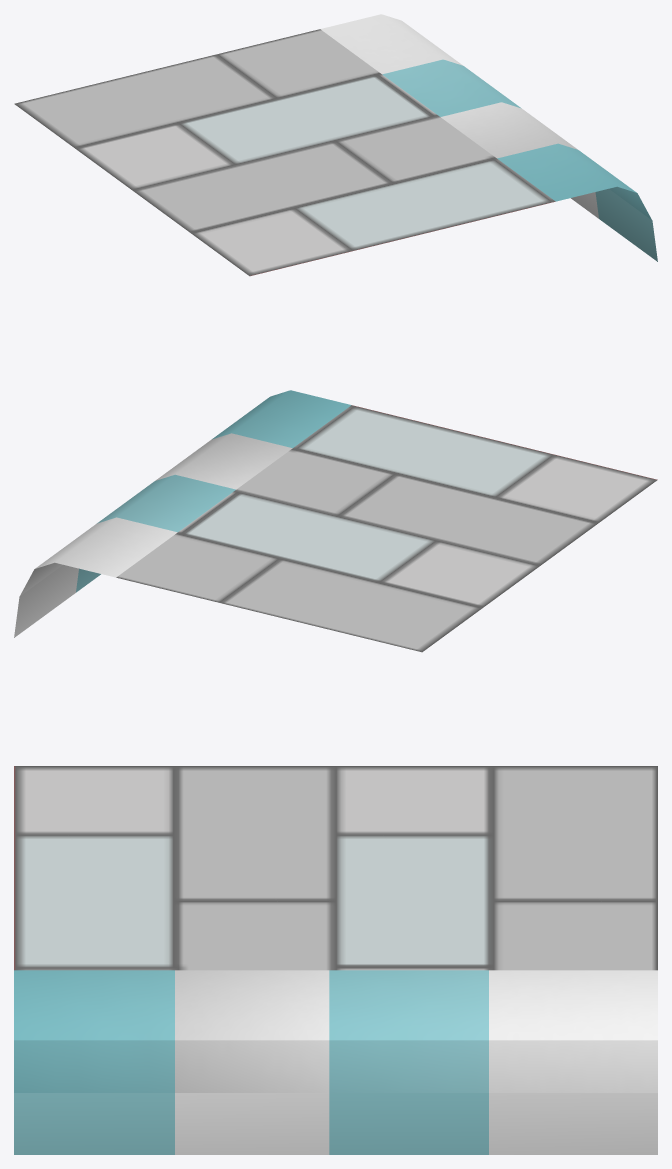
Rendered from Mod_TileWalk_02.fbx.
The picture shows the model from 3 angles, top to bottom: view 1: azimuth 30°, elevation 25°; view 2: azimuth 150°, elevation 25°; view 3: azimuth 270°, elevation 25°; orthographic projection. The views are drawn at different scales.
Parts seen in each view (by area): view 1: Mod_TileWalk_02; view 2: Mod_TileWalk_02; view 3: Mod_TileWalk_02.
Part boxes in pixels (x1,y1,x2,y2): Mod_TileWalk_02: [14, 14, 657, 276]; Mod_TileWalk_02: [14, 390, 657, 652]; Mod_TileWalk_02: [14, 766, 657, 1154].
Bounding box in the file's own units: 100 × 20 × 100.
